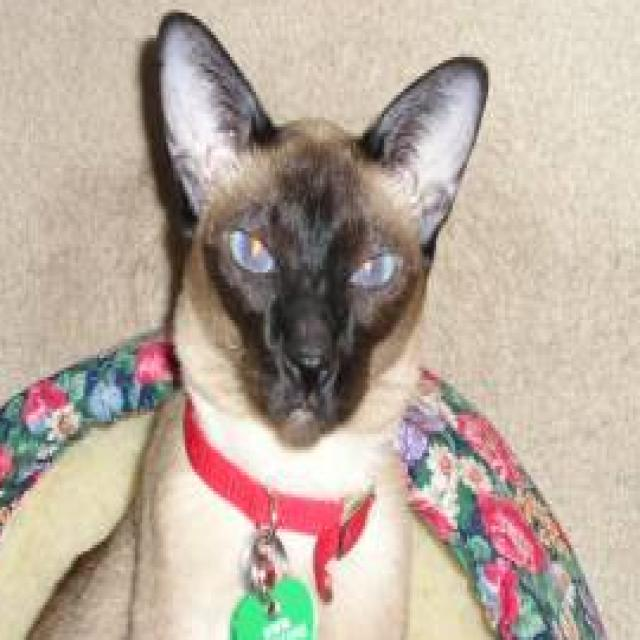Siamese: (2, 3, 493, 640)
